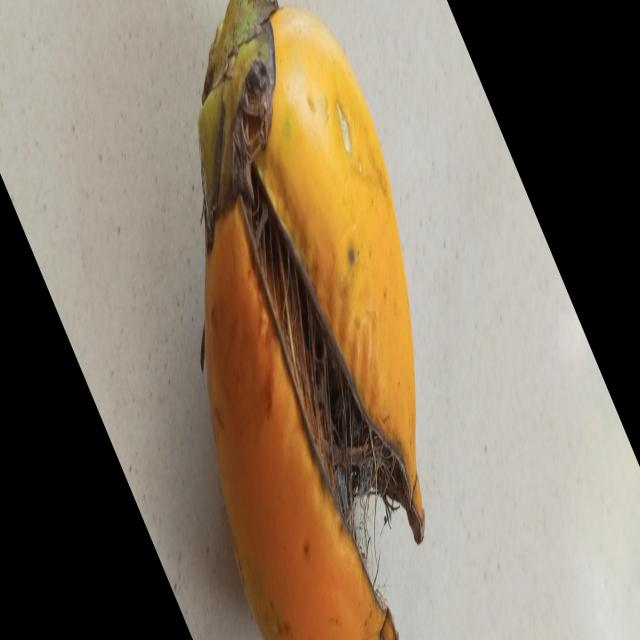damaged: (200, 0, 425, 640)
